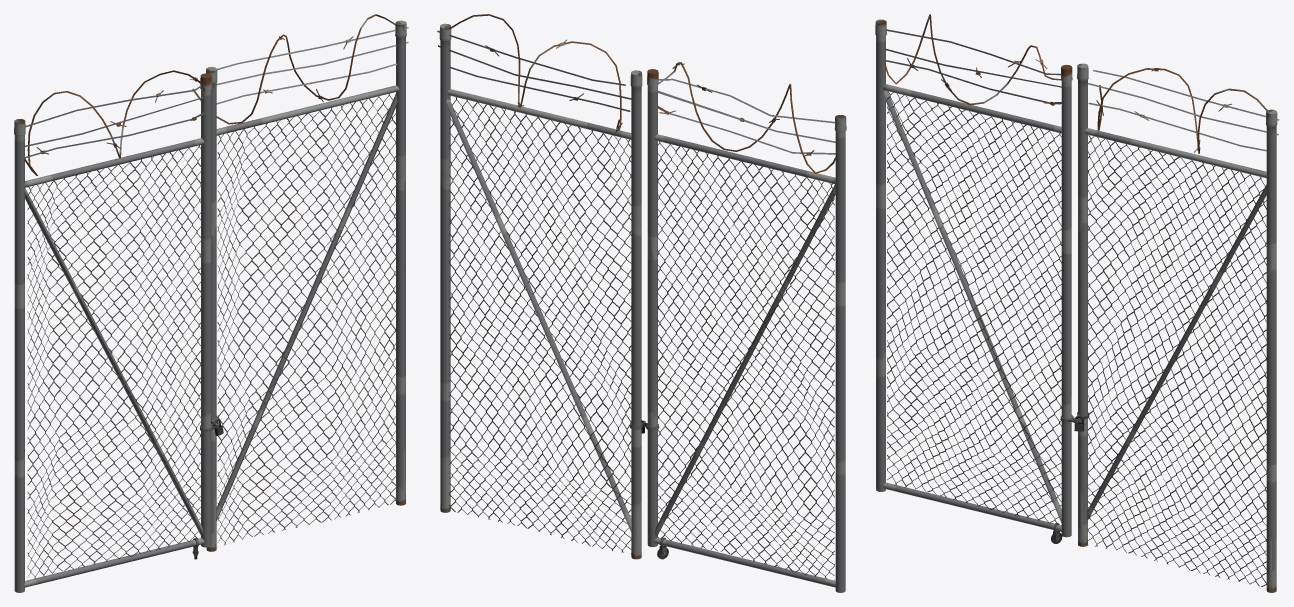
3 views of the same model, side by side, from view 1: azimuth 30°, elevation 25°; view 2: azimuth 150°, elevation 25°; view 3: azimuth 330°, elevation 25° (orthographic).
Parts seen in each view (by area): view 1: body0_model0_lod0_mesh0, body0_model0_lod0_mesh1; view 2: body0_model0_lod0_mesh0, body0_model0_lod0_mesh1; view 3: body0_model0_lod0_mesh0, body0_model0_lod0_mesh1.
Part boxes in pixels (x1,y1,x2,y2): body0_model0_lod0_mesh0: (27, 93, 396, 581); body0_model0_lod0_mesh1: (14, 14, 408, 592); body0_model0_lod0_mesh0: (449, 97, 834, 580); body0_model0_lod0_mesh1: (437, 14, 846, 592); body0_model0_lod0_mesh0: (887, 91, 1266, 586); body0_model0_lod0_mesh1: (875, 14, 1279, 592).
Size of the model in its own units: 257 by 307 by 44.16.
Materials: 2 (2 with a texture image).
